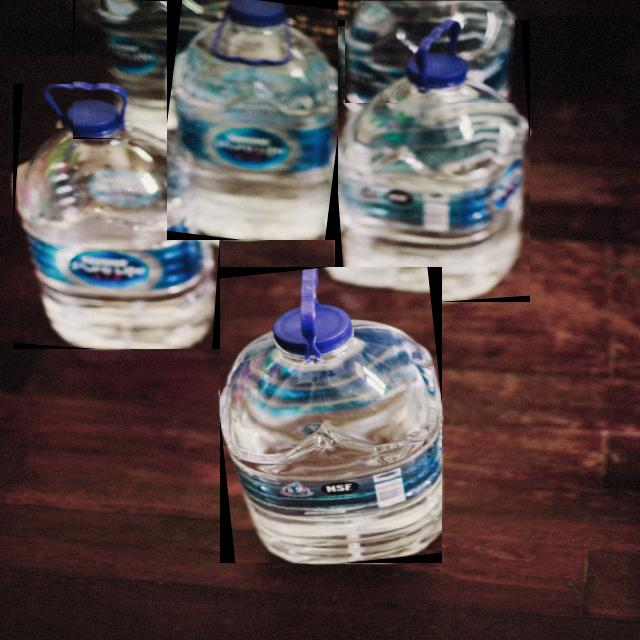Bottle: (221, 268, 442, 563), (13, 85, 220, 348), (336, 21, 529, 302), (167, 0, 337, 240), (74, 0, 211, 139), (346, 0, 514, 103)
